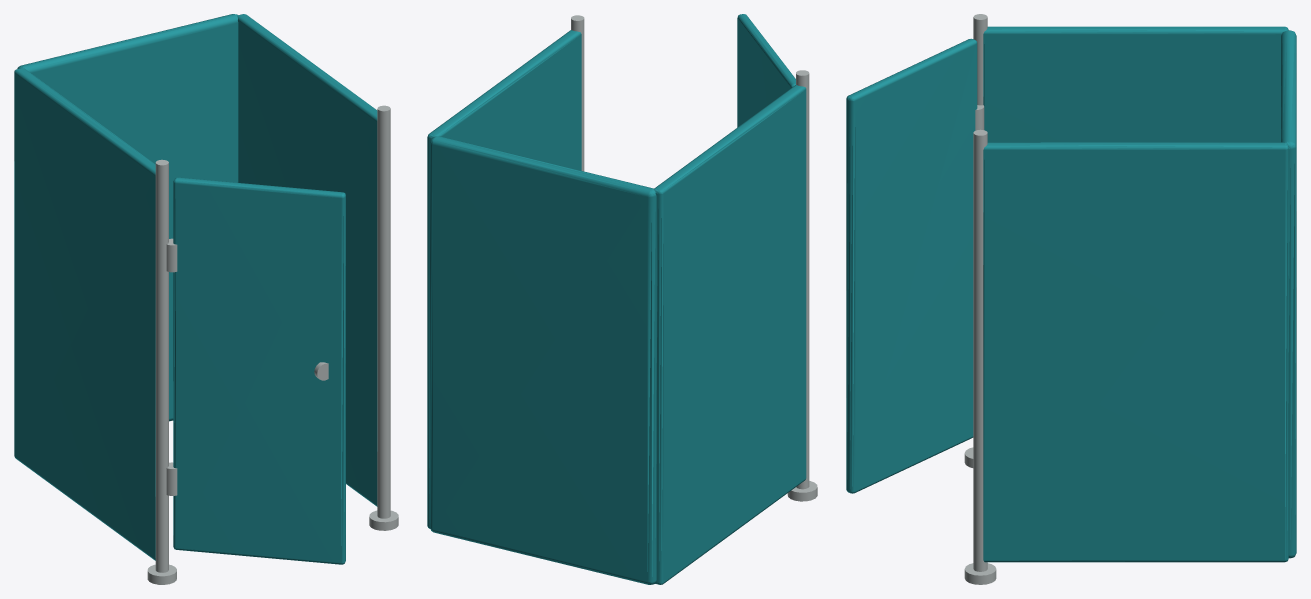
The model's file is 13_standard_cubicle.glb.
3 renders of one model, left to right at view 1: azimuth 30°, elevation 25°; view 2: azimuth 150°, elevation 25°; view 3: azimuth 270°, elevation 25°, orthographic. The views are drawn at different scales.
Visible parts, largest first — view 1: 13_standard_cubicle__Static, 13_standard_cubicle__door_moving; view 2: 13_standard_cubicle__Static, 13_standard_cubicle__door_moving; view 3: 13_standard_cubicle__Static, 13_standard_cubicle__door_moving.
Part boxes in pixels (<box>): 13_standard_cubicle__Static: <box>14,14,398,584</box>; 13_standard_cubicle__door_moving: <box>173,177,345,564</box>; 13_standard_cubicle__Static: <box>427,15,817,584</box>; 13_standard_cubicle__door_moving: <box>737,14,795,127</box>; 13_standard_cubicle__Static: <box>964,14,1296,584</box>; 13_standard_cubicle__door_moving: <box>846,38,977,493</box>.
Size of the model in its own units: 1.25 by 2.01 by 1.84.
